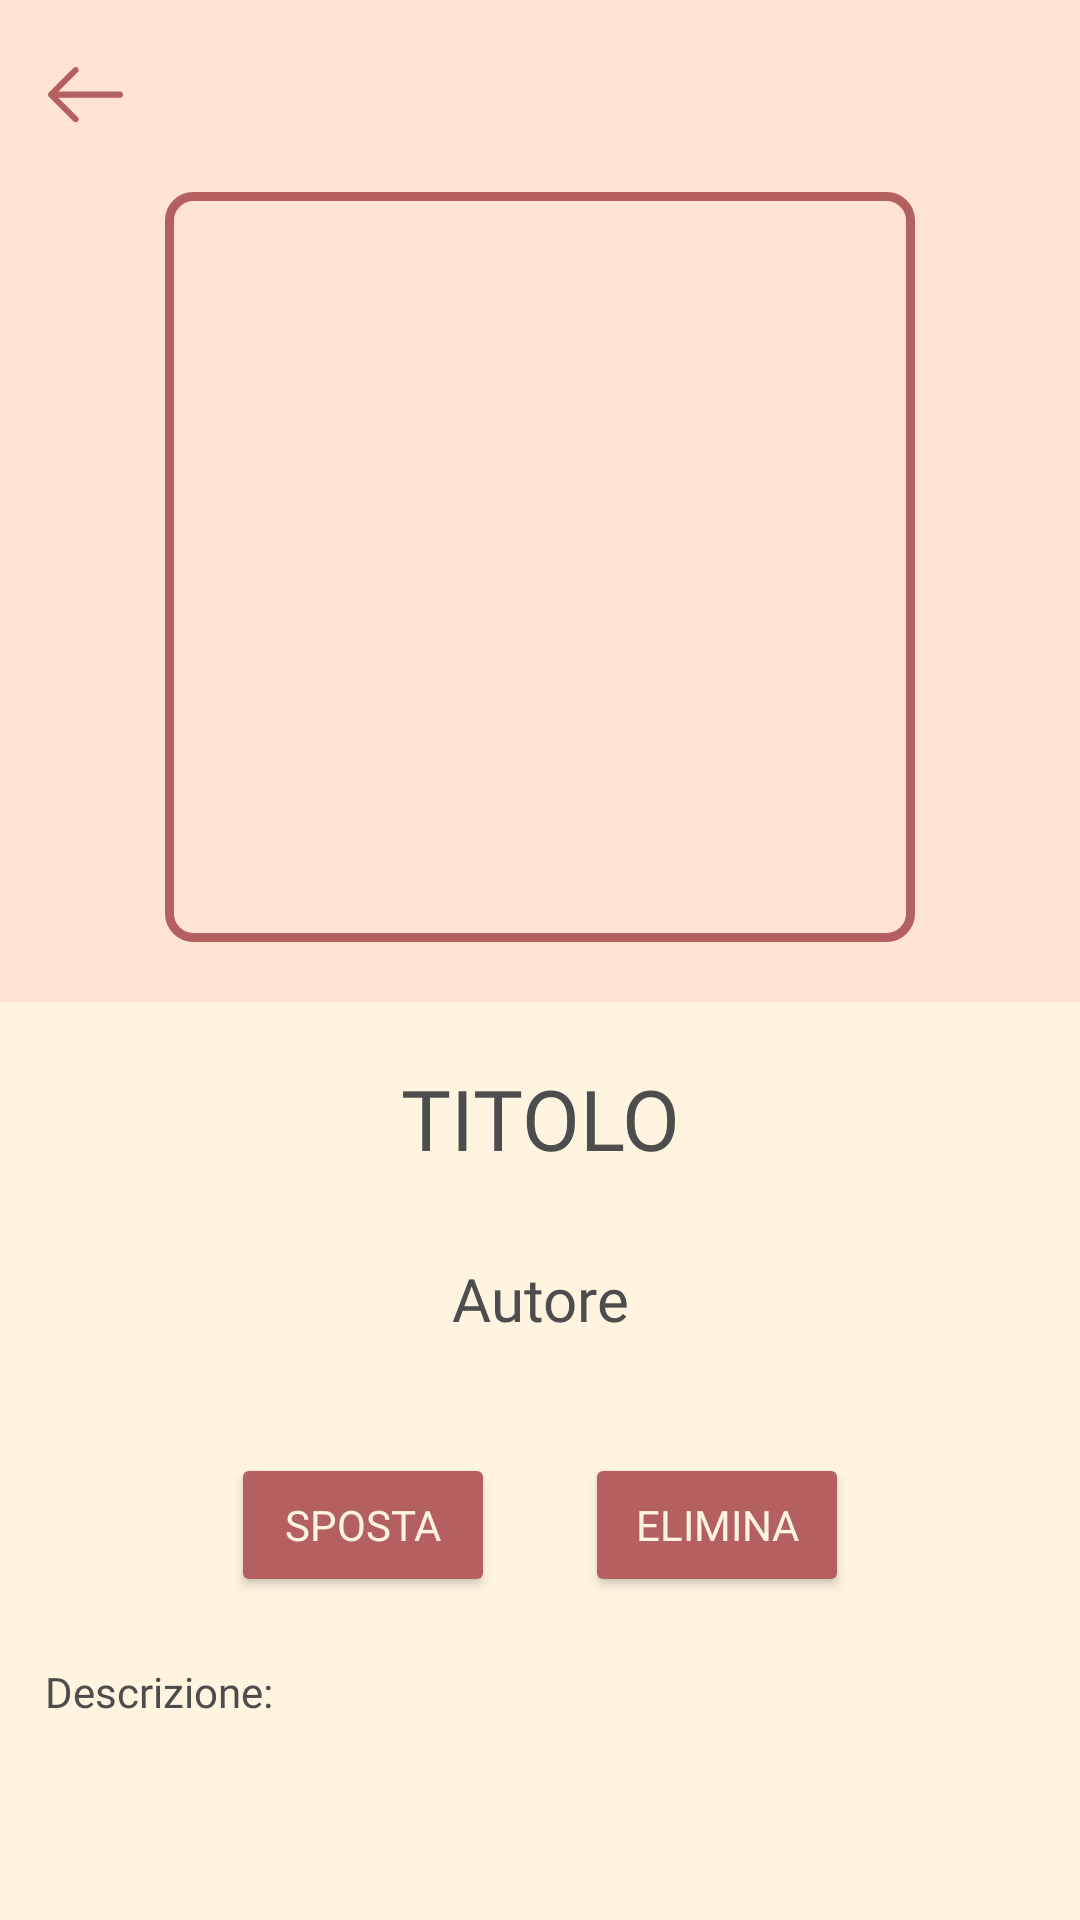

Icon bounding boxes for this 1080x1920 phone screenshot, format [left=x1, top=y1, right=x2, bottom=y2]:
back: [left=48, top=67, right=123, bottom=123]
